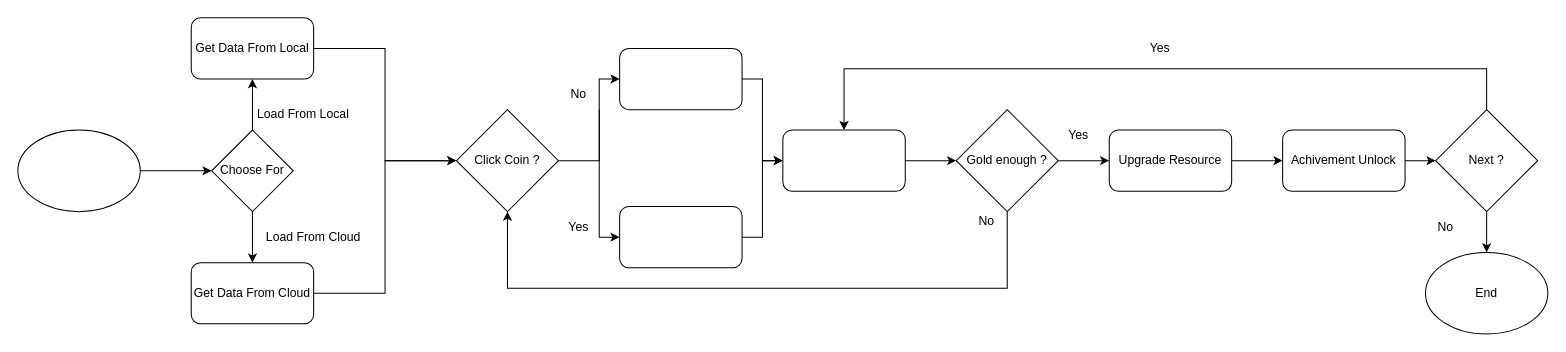
Image size: 1566x352. Some labels were removed from this diagram. The shapes that lost their labels are listed below. From the top down, each one's box as (x1, y1, x2, y2) in pixels, then its label:
(619, 47, 742, 110): Get Gold every second / idle
(17, 129, 140, 212): Start
(782, 129, 905, 191): Level Up
(619, 206, 742, 268): Get Gold
